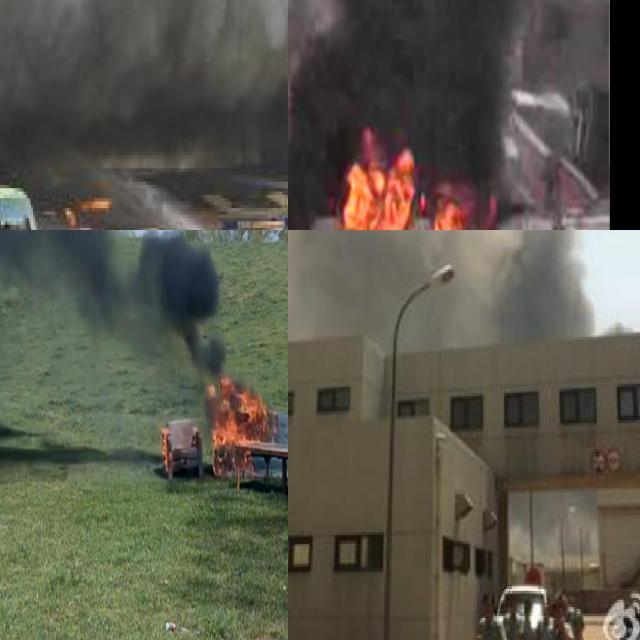fire: (341, 141, 414, 230), (207, 376, 270, 479), (430, 183, 496, 230), (160, 426, 172, 474)
smoke: (288, 0, 530, 215), (0, 230, 226, 388), (0, 0, 288, 118), (288, 230, 595, 337)
